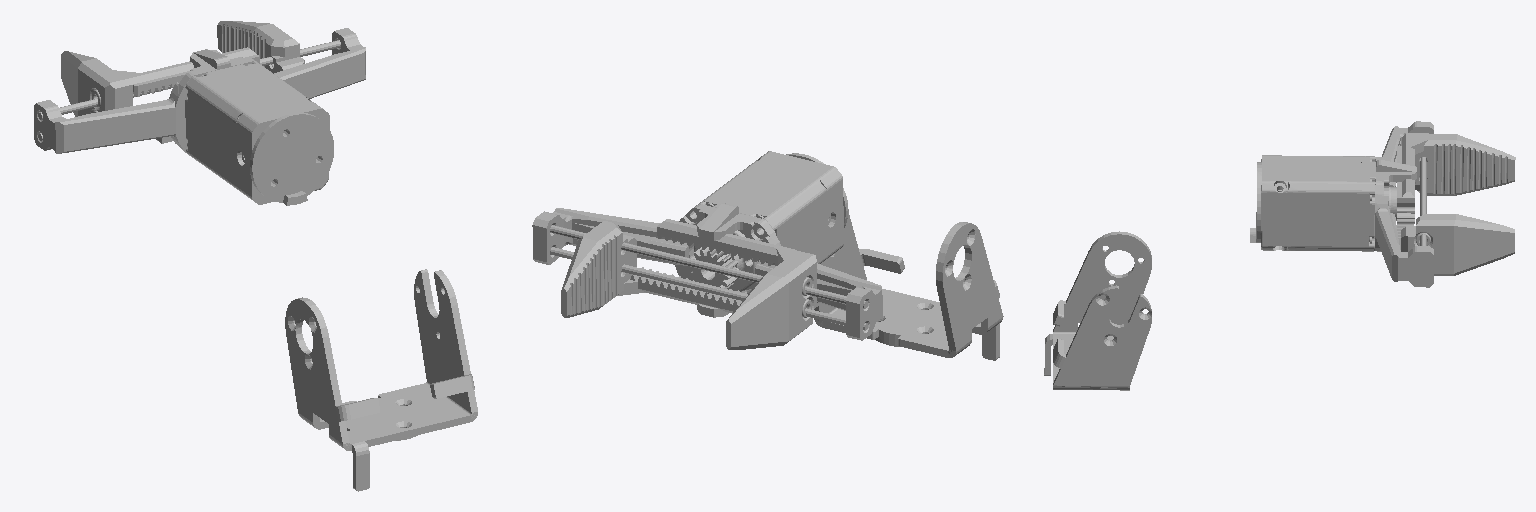
The robot description file, URDF, robot "arm_description":
<?xml version="1.0" encoding="utf-8"?>
<!-- This URDF was automatically created by SolidWorks to URDF Exporter! Originally created by [author] ([email redacted]) 
     Commit Version: 1.6.0-4-g7f85cfe  Build Version: 1.6.7995.38578
     For more information, please see http://wiki.ros.org/sw_urdf_exporter -->
<robot
  name="arm_description">
  <link
    name="Link_0">
    <inertial>
      <origin
        xyz="-0.0215700285371962 0.0191913255550109 0.149338413913734"
        rpy="0 0 0" />
      <mass
        value="0.495433467186066" />
      <inertia
        ixx="0.000495906716184892"
        ixy="-4.5890108110774E-07"
        ixz="1.52556399654665E-06"
        iyy="0.000501844781324666"
        iyz="2.89945495803764E-06"
        izz="0.000976550806599686" />
    </inertial>
    <visual>
      <origin
        xyz="0 0 0"
        rpy="0 0 0" />
      <geometry>
        <mesh
          filename="package://arm_description/meshes/Link_0.STL" />
      </geometry>
      <material
        name="">
        <color
          rgba="0.752941176470588 0.752941176470588 0.752941176470588 1" />
      </material>
    </visual>
    <collision>
      <origin
        xyz="0 0 0"
        rpy="0 0 0" />
      <geometry>
        <mesh
          filename="package://arm_description/meshes/Link_0.STL" />
      </geometry>
    </collision>
  </link>
  <link
    name="Link_1">
    <inertial>
      <origin
        xyz="0.00233303517128809 -0.000201203457518027 0.0161836921336685"
        rpy="0 0 0" />
      <mass
        value="0.115096221710961" />
      <inertia
        ixx="9.2475047401558E-05"
        ixy="6.06862842563457E-07"
        ixz="-8.33731746565458E-06"
        iyy="4.00015143451019E-05"
        iyz="-1.07377312506746E-06"
        izz="8.44544443178301E-05" />
    </inertial>
    <visual>
      <origin
        xyz="0 0 0"
        rpy="0 0 0" />
      <geometry>
        <mesh
          filename="package://arm_description/meshes/Link_1.STL" />
      </geometry>
      <material
        name="">
        <color
          rgba="0.752941176470588 0.752941176470588 0.752941176470588 1" />
      </material>
    </visual>
    <collision>
      <origin
        xyz="0 0 0"
        rpy="0 0 0" />
      <geometry>
        <mesh
          filename="package://arm_description/meshes/Link_1.STL" />
      </geometry>
    </collision>
  </link>
  <joint
    name="Joint_1"
    type="revolute">
    <origin
      xyz="-0.0214142437132751 0.0194456602348006 0.191605452072183"
      rpy="0.00211481861111635 0.0055702541140081 1.57079739593879" />
    <parent
      link="Link_0" />
    <child
      link="Link_1" />
    <axis
      xyz="0 0 -1" />
    <limit
      lower="-3.14"
      upper="3.14"
      effort="1"
      velocity="100" />
  </joint>
  <link
    name="Link_2">
    <inertial>
      <origin
        xyz="0.0780570375422681 -0.0088674340622745 0.0240329186177445"
        rpy="0 0 0" />
      <mass
        value="0.338617438506798" />
      <inertia
        ixx="0.000114901331593358"
        ixy="1.20877544725111E-08"
        ixz="-3.20258985447469E-10"
        iyy="0.000610112240999527"
        iyz="3.79821041697316E-08"
        izz="0.000585938107041635" />
    </inertial>
    <visual>
      <origin
        xyz="0 0 0"
        rpy="0 0 0" />
      <geometry>
        <mesh
          filename="package://arm_description/meshes/Link_2.STL" />
      </geometry>
      <material
        name="">
        <color
          rgba="0.752941176470588 0.752941176470588 0.752941176470588 1" />
      </material>
    </visual>
    <collision>
      <origin
        xyz="0 0 0"
        rpy="0 0 0" />
      <geometry>
        <mesh
          filename="package://arm_description/meshes/Link_2.STL" />
      </geometry>
    </collision>
  </link>
  <joint
    name="Joint_2"
    type="revolute">
    <origin
      xyz="0.0127389581992879 -0.0251499999999623 0.0402999999999978"
      rpy="1.5707963267949 -0.144346094516988 -3.14159265358979" />
    <parent
      link="Link_1" />
    <child
      link="Link_2" />
    <axis
      xyz="0 0 1" />
    <limit
      lower="-3.14"
      upper="3.14"
      effort="1"
      velocity="100" />
  </joint>
  <link
    name="Link_3">
    <inertial>
      <origin
        xyz="0.0735490465153241 -0.0193684939862219 0.0260291733220808"
        rpy="0 0 0" />
      <mass
        value="0.262127893857478" />
      <inertia
        ixx="0.000116813910307825"
        ixy="2.84719134959355E-05"
        ixz="2.39642278489291E-06"
        iyy="0.000466008659281839"
        iyz="-8.38356086492127E-07"
        izz="0.000418021555796299" />
    </inertial>
    <visual>
      <origin
        xyz="0 0 0"
        rpy="0 0 0" />
      <geometry>
        <mesh
          filename="package://arm_description/meshes/Link_3.STL" />
      </geometry>
      <material
        name="">
        <color
          rgba="0.752941176470588 0.752941176470588 0.752941176470588 1" />
      </material>
    </visual>
    <collision>
      <origin
        xyz="0 0 0"
        rpy="0 0 0" />
      <geometry>
        <mesh
          filename="package://arm_description/meshes/Link_3.STL" />
      </geometry>
    </collision>
  </link>
  <joint
    name="Joint_3"
    type="revolute">
    <origin
      xyz="0.160000000000267 0 -0.00229999999998206"
      rpy="0 0 3.00260429580537" />
    <parent
      link="Link_2" />
    <child
      link="Link_3" />
    <axis
      xyz="0 0 1" />
    <limit
      lower="-3.14"
      upper="3.14"
      effort="1"
      velocity="100" />
  </joint>
  <link
    name="Link_4">
    <inertial>
      <origin
        xyz="0.0290324812561034 0.0308275832255656 -0.0302284308768422"
        rpy="0 0 0" />
      <mass
        value="0.183550046357377" />
      <inertia
        ixx="9.80608942798305E-05"
        ixy="-1.25256496775757E-05"
        ixz="-8.62417276991685E-07"
        iyy="0.000109351384724414"
        iyz="-1.05207766478973E-06"
        izz="5.28926596761056E-05" />
    </inertial>
    <visual>
      <origin
        xyz="0 0 0"
        rpy="0 0 0" />
      <geometry>
        <mesh
          filename="package://arm_description/meshes/Link_4.STL" />
      </geometry>
      <material
        name="">
        <color
          rgba="0.752941176470588 0.752941176470588 0.752941176470588 1" />
      </material>
    </visual>
    <collision>
      <origin
        xyz="0 0 0"
        rpy="0 0 0" />
      <geometry>
        <mesh
          filename="package://arm_description/meshes/Link_4.STL" />
      </geometry>
    </collision>
  </link>
  <joint
    name="Joint_4"
    type="revolute">
    <origin
      xyz="0.138999999999995 -0.022500000000037 -0.00365397222864563"
      rpy="3.14159265358979 0 0" />
    <parent
      link="Link_3" />
    <child
      link="Link_4" />
    <axis
      xyz="0 0 -1" />
    <limit
      lower="-3.14"
      upper="3.14"
      effort="1"
      velocity="100" />
  </joint>
  <link
    name="Link_5">
    <inertial>
      <origin
        xyz="0.00361332956404915 -3.44973423708796E-05 0.01478189501244"
        rpy="0 0 0" />
      <mass
        value="0.109318647061635" />
      <inertia
        ixx="2.73308194890512E-05"
        ixy="-2.01511172174708E-09"
        ixz="-8.81881130818584E-07"
        iyy="2.66620658675184E-05"
        iyz="-7.70299323219792E-08"
        izz="3.74347009989327E-05" />
    </inertial>
    <visual>
      <origin
        xyz="0 0 0"
        rpy="0 0 0" />
      <geometry>
        <mesh
          filename="package://arm_description/meshes/Link_5.STL" />
      </geometry>
      <material
        name="">
        <color
          rgba="0.752941176470588 0.752941176470588 0.752941176470588 1" />
      </material>
    </visual>
    <collision>
      <origin
        xyz="0 0 0"
        rpy="0 0 0" />
      <geometry>
        <mesh
          filename="package://arm_description/meshes/Link_5.STL" />
      </geometry>
    </collision>
  </link>
  <joint
    name="Joint_5"
    type="revolute">
    <origin
      xyz="0.058078218985555 0.0302999999999997 -0.0304500000000002"
      rpy="1.57079632679489 0 0" />
    <parent
      link="Link_4" />
    <child
      link="Link_5" />
    <axis
      xyz="0 0 1" />
    <limit
      lower="-3.14"
      upper="3.14"
      effort="1"
      velocity="100" />
  </joint>
  <link
    name="Link_6">
    <inertial>
      <origin
        xyz="0.000111798786011107 -3.04064623025679E-05 0.0381722986137639"
        rpy="0 0 0" />
      <mass
        value="0.0597934624600572" />
      <inertia
        ixx="6.9704282069037E-06"
        ixy="-2.16746441308965E-08"
        ixz="1.82459809303624E-08"
        iyy="3.794441586587E-05"
        iyz="1.19423849004993E-09"
        izz="4.19303939961101E-05" />
    </inertial>
    <visual>
      <origin
        xyz="0 0 0"
        rpy="0 0 0" />
      <geometry>
        <mesh
          filename="package://arm_description/meshes/Link_6.STL" />
      </geometry>
      <material
        name="">
        <color
          rgba="0.752941176470588 0.752941176470588 0.752941176470588 1" />
      </material>
    </visual>
    <collision>
      <origin
        xyz="0 0 0"
        rpy="0 0 0" />
      <geometry>
        <mesh
          filename="package://arm_description/meshes/Link_6.STL" />
      </geometry>
    </collision>
  </link>
  <joint
    name="Joint_6"
    type="revolute">
    <origin
      xyz="0.0235000000000267 0 0.0302999999999897"
      rpy="-1.5707963267949 0 -1.5707963267949" />
    <parent
      link="Link_5" />
    <child
      link="Link_6" />
    <axis
      xyz="0 0 1" />
    <limit
      lower="-3.14"
      upper="3.14"
      effort="1"
      velocity="100" />
  </joint>
  <link
    name="Gripper_L">
    <inertial>
      <origin
        xyz="0.00955177497539023 -0.00316267985502966 0.105306159895012"
        rpy="0 0 0" />
      <mass
        value="0.0122677572373787" />
      <inertia
        ixx="3.21817721271814E-06"
        ixy="-4.3721458694647E-07"
        ixz="-1.01598093051609E-06"
        iyy="4.5629406767058E-06"
        iyz="-5.70171756630098E-07"
        izz="2.7703953819833E-06" />
    </inertial>
    <visual>
      <origin
        xyz="0 0 0"
        rpy="0 0 0" />
      <geometry>
        <mesh
          filename="package://arm_description/meshes/Gripper_L.STL" />
      </geometry>
      <material
        name="">
        <color
          rgba="0.752941176470588 0.752941176470588 0.752941176470588 1" />
      </material>
    </visual>
    <collision>
      <origin
        xyz="0 0 0"
        rpy="0 0 0" />
      <geometry>
        <mesh
          filename="package://arm_description/meshes/Gripper_L.STL" />
      </geometry>
    </collision>
  </link>
  <joint
    name="Joint_Gripper_L"
    type="prismatic">
    <origin
      xyz="-0.053 -0.0008244 0.074016"
      rpy="0 -1.5708 0" />
    <parent
      link="Link_6" />
    <child
      link="Gripper_L" />
    <axis
      xyz="0 0 -1" />
    <limit
      lower="0.1"
      upper="0.15"
      effort="1"
      velocity="100" />
  </joint>
  <link
    name="Gripper_R">
    <inertial>
      <origin
        xyz="0.00955177477827621 -0.00316267998134834 0.105306160038391"
        rpy="0 0 0" />
      <mass
        value="0.012267756880226" />
      <inertia
        ixx="3.2181771811341E-06"
        ixy="-4.3721457399025E-07"
        ixz="-1.01598094484888E-06"
        iyy="4.56294065143946E-06"
        iyz="-5.70171780256891E-07"
        izz="2.77039534974477E-06" />
    </inertial>
    <visual>
      <origin
        xyz="0 0 0"
        rpy="0 0 0" />
      <geometry>
        <mesh
          filename="package://arm_description/meshes/Gripper_R.STL" />
      </geometry>
      <material
        name="">
        <color
          rgba="0.752941176470588 0.752941176470588 0.752941176470588 1" />
      </material>
    </visual>
    <collision>
      <origin
        xyz="0 0 0"
        rpy="0 0 0" />
      <geometry>
        <mesh
          filename="package://arm_description/meshes/Gripper_R.STL" />
      </geometry>
    </collision>
  </link>
  <joint
    name="Joint_Gripper_R"
    type="prismatic">
    <origin
      xyz="0.053 0.0008244 0.074016"
      rpy="3.1416 -1.5708 0" />
    <parent
      link="Link_6" />
    <child
      link="Gripper_R" />
    <axis
      xyz="0 0 -1" />
    <limit
      lower="0.1"
      upper="0.15"
      effort="1"
      velocity="100" />
  </joint>
</robot>

--- What the picture shows (computed from the rendered views, not written in the file) ---
The picture shows the robot from 3 angles, left to right: view 1: azimuth 30°, elevation 25°; view 2: azimuth 150°, elevation 25°; view 3: azimuth 270°, elevation 25°; orthographic projection.
Robot: arm_description — 9 links, 8 joints (6 revolute, 2 prismatic); root link Link_0; default pose: all joints at 0 but 2 set to mid-range because 0 is outside their limits (Joint_Gripper_L = 0.125, Joint_Gripper_R = 0.125).
Visible links, largest first — view 1: Link_6, Link_1, Gripper_R, Gripper_L; view 2: Link_6, Link_1, Gripper_R, Gripper_L; view 3: Link_6, Link_1, Gripper_R, Gripper_L.
Boxes of the visible links, <box> form: Link_6: <box>34,28,365,205</box>; Link_1: <box>285,269,477,491</box>; Gripper_R: <box>61,47,259,116</box>; Gripper_L: <box>156,21,304,143</box>; Link_6: <box>532,151,882,340</box>; Link_1: <box>814,211,1003,360</box>; Gripper_R: <box>657,219,817,349</box>; Gripper_L: <box>561,221,746,317</box>; Link_6: <box>1250,121,1433,287</box>; Link_1: <box>1044,231,1151,390</box>; Gripper_R: <box>1397,133,1515,206</box>; Gripper_L: <box>1397,214,1514,275</box>.
Bounding box of the posed robot: 0.14 × 0.215 × 0.1181 m (x, y, z).
Meshes: 9 distinct files referenced, 4 mesh visuals loaded (4 binary STL); not drawn: 5 (reference not matched to a file when rendering).